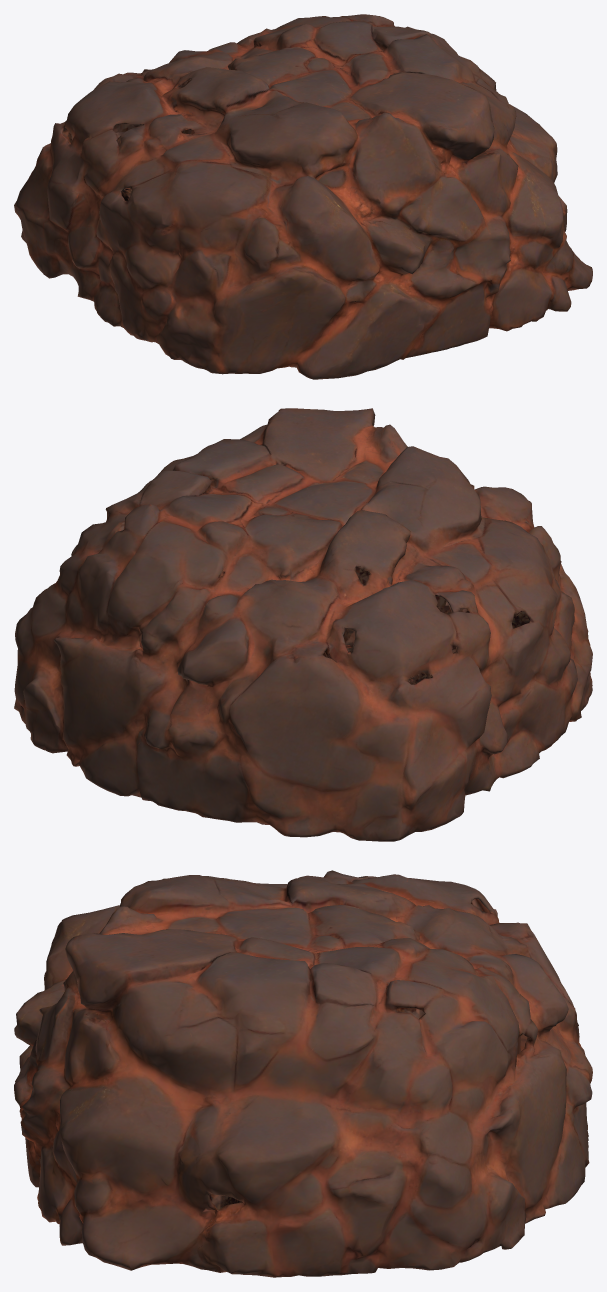
The model's file is Iron Ore 2.fbx.
3 views of the same model, one above another, from view 1: azimuth 30°, elevation 25°; view 2: azimuth 150°, elevation 25°; view 3: azimuth 270°, elevation 25° (orthographic). The views are drawn at different scales.
Parts seen in each view (by area): view 1: Mesh_0; view 2: Mesh_0; view 3: Mesh_0.
Part boxes in pixels (x1=…): Mesh_0: x1=14, y1=14, x2=592, y2=379; Mesh_0: x1=14, y1=408, x2=592, y2=841; Mesh_0: x1=14, y1=870, x2=592, y2=1277.
Bounding box in the file's own units: 201 × 95.6 × 200.
1 material, 1 textured.
